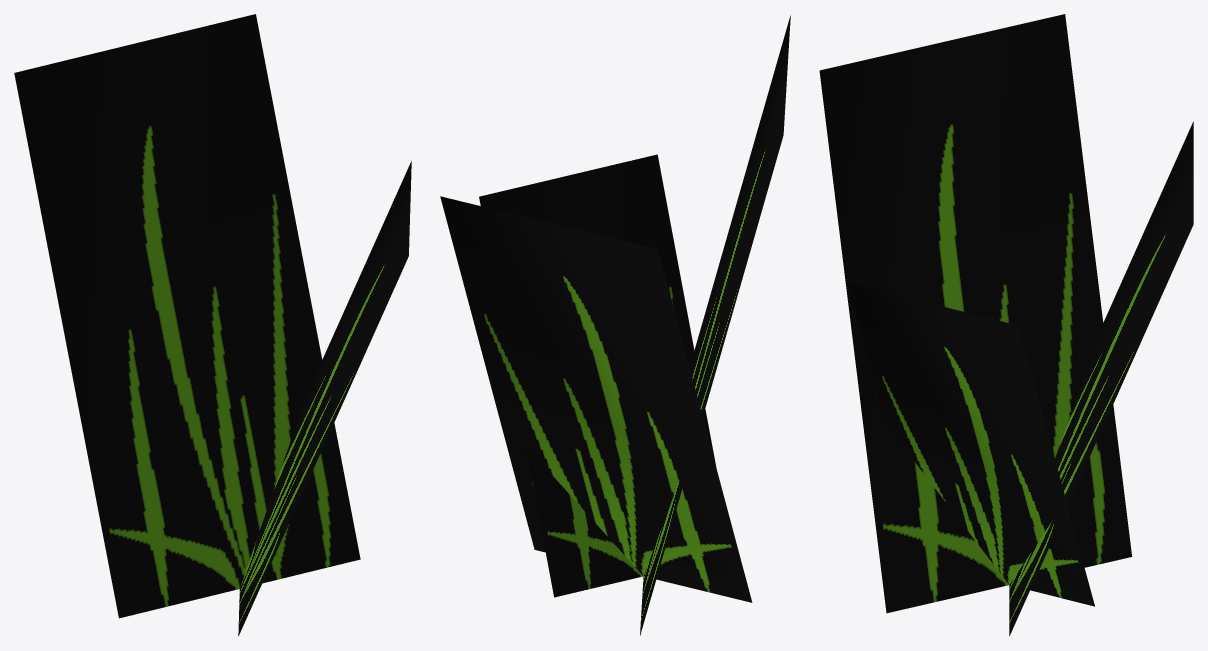
The model's file is foliage_0.gltf.
The picture shows the model from 3 angles, left to right: view 1: azimuth 30°, elevation 25°; view 2: azimuth 150°, elevation 25°; view 3: azimuth 270°, elevation 25°; orthographic projection. The views are drawn at different scales.
Visible parts, largest first — view 1: 01_t; view 2: 01_t; view 3: 01_t.
Boxes of the visible parts, x1=… form: 01_t: x1=14, y1=14, x2=411, y2=636; 01_t: x1=440, y1=15, x2=790, y2=635; 01_t: x1=819, y1=14, x2=1193, y2=636.
Size of the model in its own units: 0.2594 by 0.3799 by 0.2623.
1 material, 1 textured.
